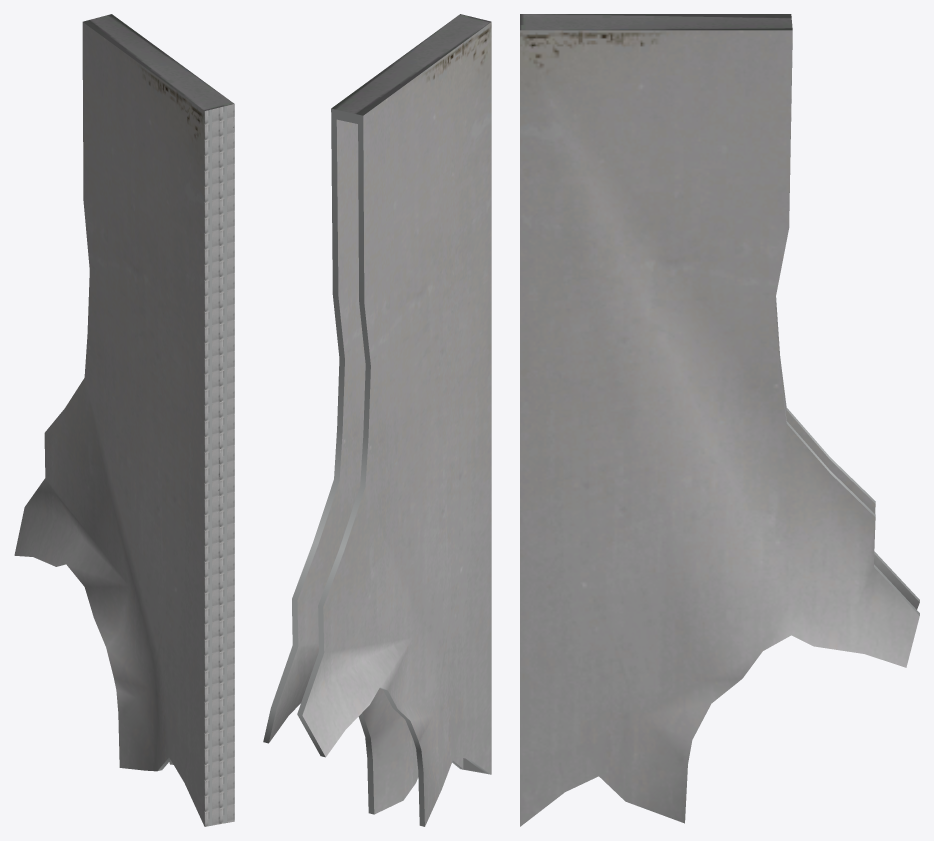
Rendered from metal_door_112_noskins_dm05_06.glb.
3 renders of one model, left to right at view 1: azimuth 30°, elevation 25°; view 2: azimuth 150°, elevation 25°; view 3: azimuth 270°, elevation 25°, orthographic. The views are drawn at different scales.
Parts seen in each view (by area): view 1: metal_door_112_noskins_dm05_06; view 2: metal_door_112_noskins_dm05_06; view 3: metal_door_112_noskins_dm05_06.
Part boxes in pixels (x1=…): metal_door_112_noskins_dm05_06: x1=14, y1=14, x2=234, y2=826; metal_door_112_noskins_dm05_06: x1=263, y1=14, x2=491, y2=826; metal_door_112_noskins_dm05_06: x1=520, y1=14, x2=919, y2=826.
Bounding box in the file's own units: 0.0761 × 0.8754 × 0.398.
1 material, 1 textured.
